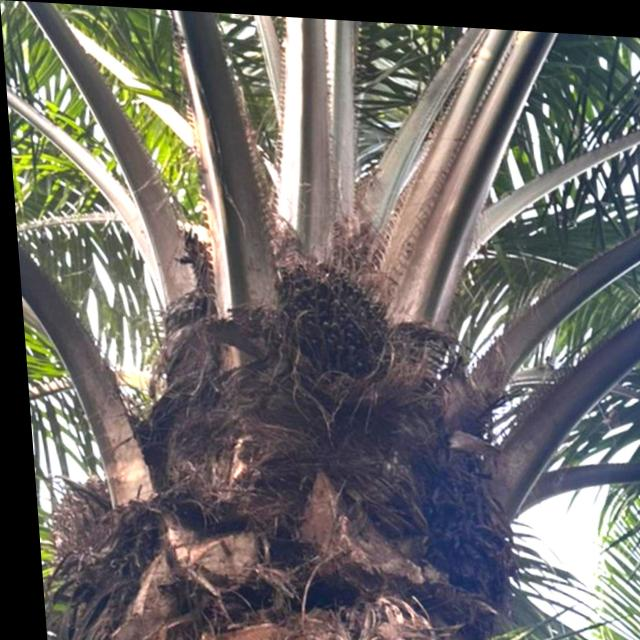unripe: (253, 250, 404, 404)
